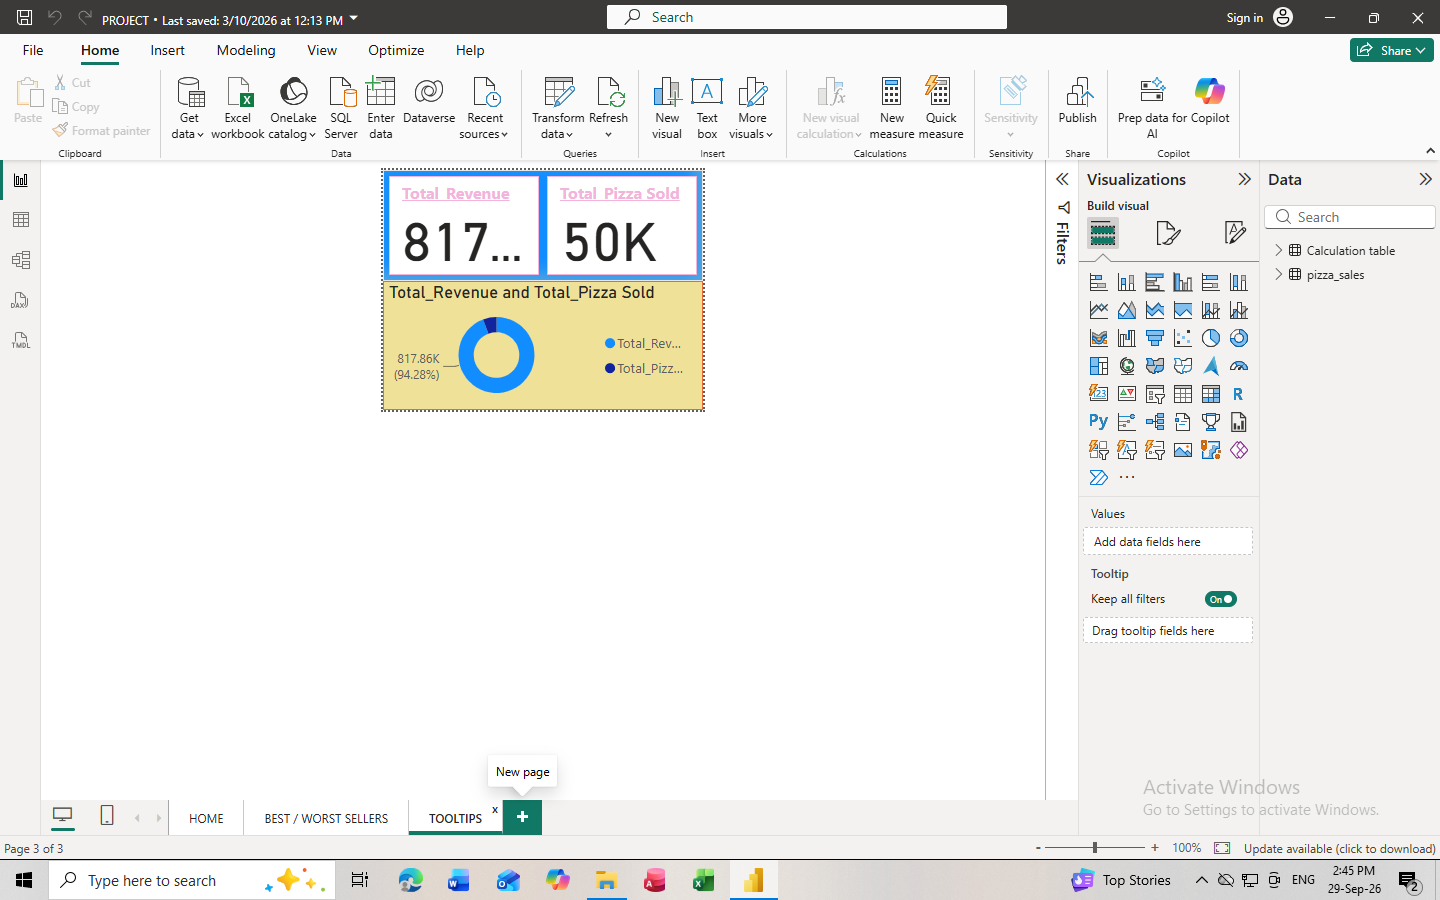

This screenshot's page, from the dashboard's own definition file:
{"tool":"powerbi","page":{"name":"TOOLTIPS","canvas":[320,240],"ordinal":2},"visuals":[{"type":"donutChart","fields":{"Y":["Calculation table.Total_Revenue","Calculation table.Total_Pizza Sold"]},"box":[0,111,320,129],"z":0},{"type":"cardVisual","fields":{"Data":["Calculation table.Total_Revenue","Calculation table.Total_Pizza Sold"]},"box":[0,0,320,111],"z":1000}]}

Visuals, with their boxes on the page's 320x240 design canvas (x1, y1, x2, y2). These are canvas units, not pixel positions in the 1440x900 screenshot, which may show the page scaled, cropped or inside an application window:
donutChart - Calculation table.Total_Revenue x Calculation table.Total_Pizza Sold: <bbox>0, 111, 320, 240</bbox>
cardVisual - Calculation table.Total_Revenue x Calculation table.Total_Pizza Sold: <bbox>0, 0, 320, 111</bbox>
